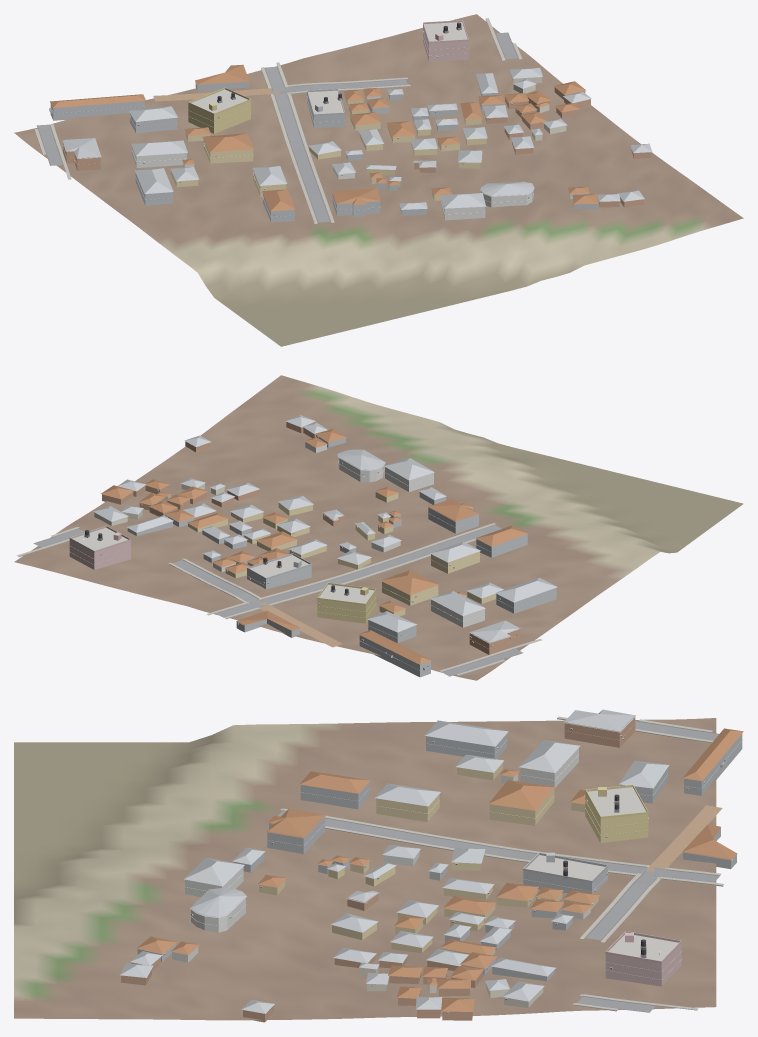
3 renders of one model, top to bottom at view 1: azimuth 30°, elevation 25°; view 2: azimuth 150°, elevation 25°; view 3: azimuth 270°, elevation 25°, orthographic. The views are drawn at different scales.
Parts seen in each view (by area): view 1: Terrain-col, Buildings-col, Roads-col, Sidewalks-col, Details; view 2: Terrain-col, Buildings-col, Roads-col, Details, Sidewalks-col; view 3: Terrain-col, Buildings-col, Roads-col, Sidewalks-col, Details.
Boxes of the visible parts, <box> form: Terrain-col: <box>14,14,743,346</box>; Buildings-col: <box>50,22,652,222</box>; Roads-col: <box>36,32,518,222</box>; Sidewalks-col: <box>34,18,522,223</box>; Details: <box>49,20,631,217</box>; Terrain-col: <box>14,375,743,680</box>; Buildings-col: <box>69,414,557,677</box>; Roads-col: <box>33,525,522,676</box>; Details: <box>69,436,556,670</box>; Sidewalks-col: <box>16,523,541,675</box>; Terrain-col: <box>14,718,716,1020</box>; Buildings-col: <box>120,709,743,1022</box>; Roads-col: <box>278,721,722,1012</box>; Sidewalks-col: <box>280,716,724,1011</box>; Details: <box>134,723,742,1014</box>.
Bounding box in the file's own units: 262 × 24.71 × 266.
